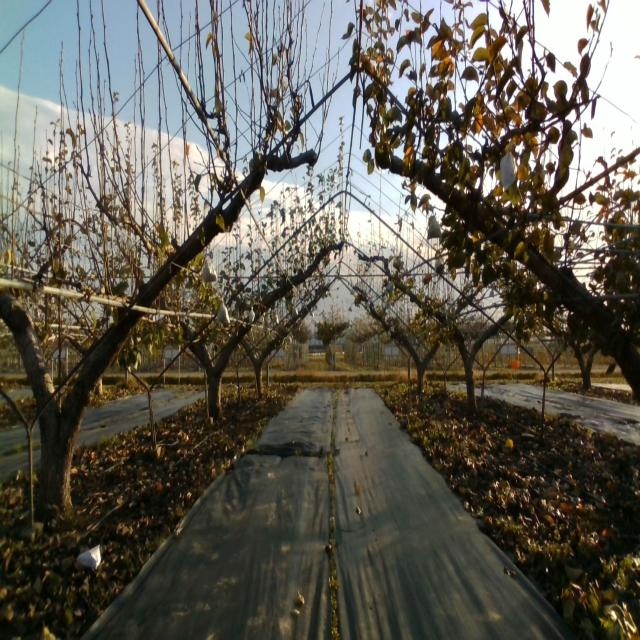pearbags: (499, 140, 516, 192), (200, 258, 218, 282), (216, 296, 230, 324), (426, 217, 442, 239)
